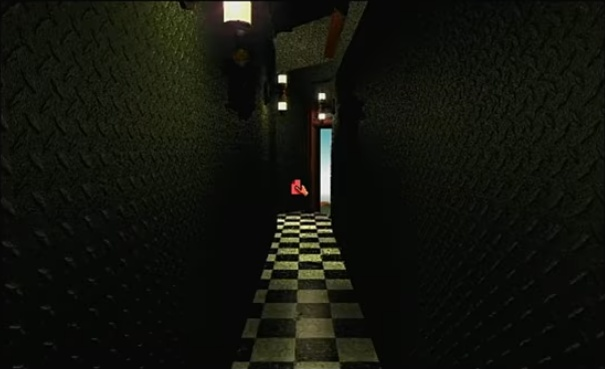Keep: (286, 174, 314, 201)
